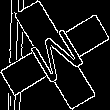M_SE: (22, 21, 88, 89)
